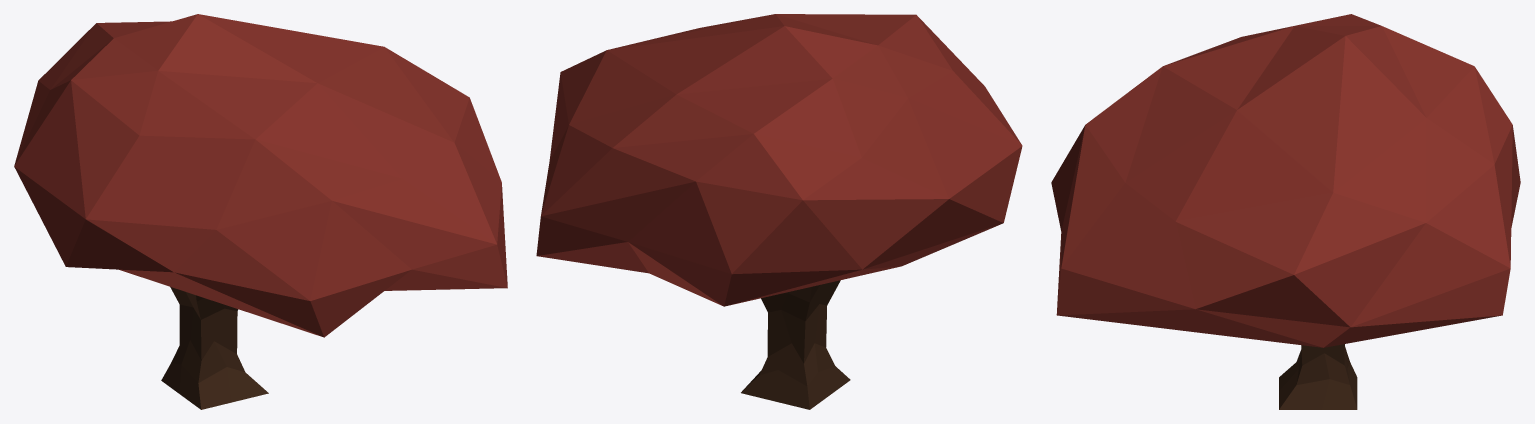
Rendered from Tree_29_Red.fbx.
3 views of the same model, side by side, from view 1: azimuth 30°, elevation 25°; view 2: azimuth 150°, elevation 25°; view 3: azimuth 270°, elevation 25° (orthographic). The views are drawn at different scales.
Visible parts, largest first — view 1: Tree_29_Red_Part_1, Tree_29_Red_Part_2; view 2: Tree_29_Red_Part_1, Tree_29_Red_Part_2; view 3: Tree_29_Red_Part_1, Tree_29_Red_Part_2.
Part boxes in pixels (bbox=[...]): Tree_29_Red_Part_1: bbox=[14, 14, 507, 337]; Tree_29_Red_Part_2: bbox=[161, 287, 268, 409]; Tree_29_Red_Part_1: bbox=[536, 14, 1022, 306]; Tree_29_Red_Part_2: bbox=[741, 280, 850, 409]; Tree_29_Red_Part_1: bbox=[1051, 14, 1520, 347]; Tree_29_Red_Part_2: bbox=[1279, 344, 1357, 409].
Bounding box in the file's own units: 821 × 681 × 813.
